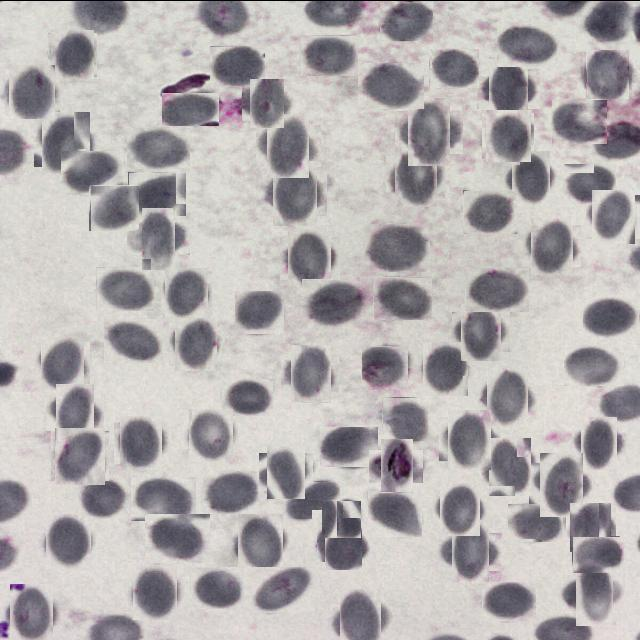red blood cell: (364, 222, 430, 271), (302, 278, 372, 324), (145, 513, 210, 562), (38, 114, 94, 170), (401, 104, 457, 160), (358, 62, 424, 108), (267, 165, 322, 220), (53, 428, 107, 482), (262, 118, 316, 172), (534, 457, 588, 511), (252, 566, 315, 612), (465, 266, 529, 311), (131, 476, 196, 520), (5, 587, 58, 639), (497, 21, 558, 66), (61, 150, 123, 194), (234, 517, 286, 569), (444, 412, 496, 464), (126, 126, 190, 168), (483, 62, 534, 114), (284, 232, 336, 283), (390, 151, 441, 202), (568, 568, 620, 618), (104, 318, 163, 362), (373, 276, 432, 320), (367, 489, 422, 536), (96, 266, 154, 310), (128, 171, 186, 215), (482, 372, 533, 422), (202, 469, 259, 513), (420, 343, 470, 393), (44, 516, 94, 566), (446, 526, 496, 576), (528, 220, 578, 270), (456, 306, 506, 356), (485, 442, 535, 492), (286, 348, 336, 398), (8, 66, 58, 116), (334, 592, 386, 640), (564, 344, 624, 385), (131, 567, 180, 617), (38, 338, 88, 387), (483, 110, 532, 160), (588, 192, 638, 241), (552, 99, 607, 143), (583, 296, 639, 339), (463, 189, 517, 233), (209, 44, 265, 86), (187, 410, 236, 458), (301, 34, 358, 75), (320, 426, 378, 466), (436, 484, 484, 532), (118, 418, 166, 466), (51, 387, 99, 435), (172, 320, 220, 368), (134, 214, 182, 262), (90, 184, 140, 230), (190, 566, 244, 608), (507, 154, 554, 201), (163, 268, 210, 315), (234, 289, 284, 333), (507, 502, 563, 541), (563, 162, 616, 203), (584, 50, 631, 96), (482, 582, 536, 622), (284, 480, 340, 518), (50, 31, 96, 77), (568, 504, 614, 550), (263, 448, 309, 494), (361, 345, 408, 389), (380, 1, 433, 40), (321, 520, 366, 565), (576, 420, 622, 464), (382, 396, 428, 440), (429, 47, 479, 87), (78, 478, 128, 517), (222, 378, 273, 415), (162, 92, 219, 125), (245, 82, 288, 124), (572, 535, 620, 572), (322, 500, 360, 538)
trophozoite: (374, 443, 418, 488)
